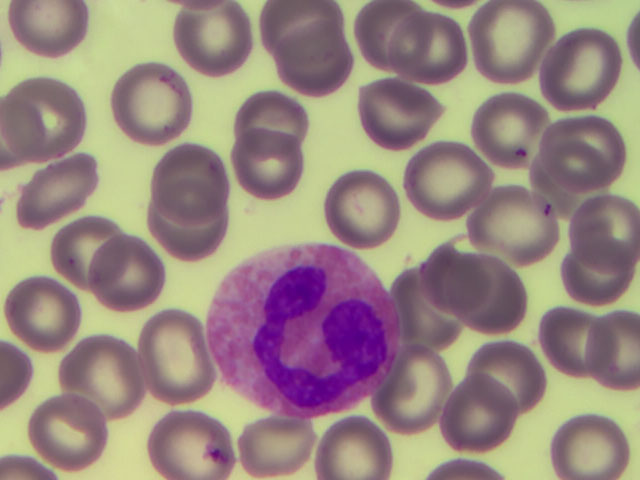RBC: (556, 183, 640, 270), (556, 229, 640, 316), (556, 310, 640, 397), (556, 393, 640, 480), (110, 61, 193, 148), (9, 74, 92, 161), (16, 138, 99, 225), (44, 205, 127, 292), (83, 232, 166, 319), (143, 186, 226, 273), (155, 133, 238, 220), (235, 129, 318, 216), (226, 81, 309, 168), (271, 25, 354, 112), (385, 5, 468, 92), (542, 24, 625, 111), (470, 85, 553, 172), (405, 136, 488, 223), (358, 75, 441, 162), (322, 169, 405, 256), (475, 176, 558, 263), (528, 146, 611, 233), (552, 104, 635, 191), (414, 229, 497, 316), (458, 257, 541, 344), (390, 273, 473, 360), (364, 349, 447, 436), (443, 370, 526, 457), (474, 323, 557, 410), (519, 302, 602, 389), (313, 393, 396, 480), (232, 393, 315, 480), (146, 393, 229, 480), (135, 316, 218, 403), (61, 334, 144, 421), (29, 387, 112, 474), (172, 1, 255, 87), (254, 1, 337, 87), (336, 1, 419, 87), (467, 1, 550, 87), (1, 269, 83, 356), (7, 1, 92, 62)
WBC: (212, 240, 387, 414)
